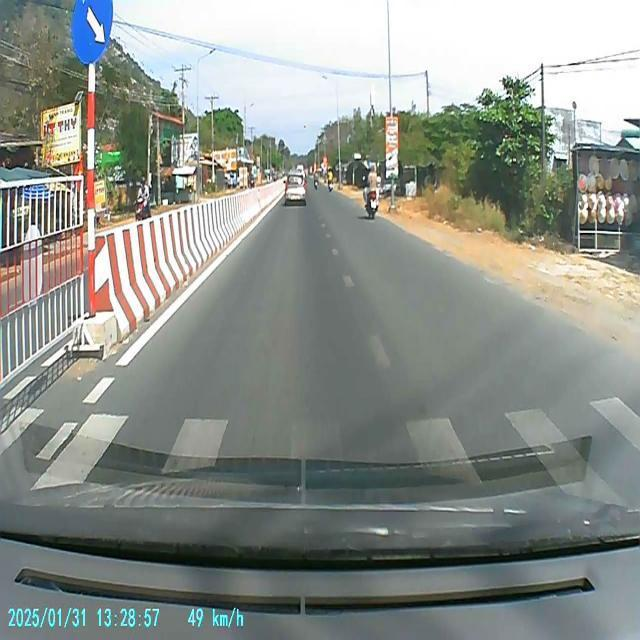302a-huong-phai-di-vong-chuong-ngai-vat-1: (70, 0, 114, 62)
